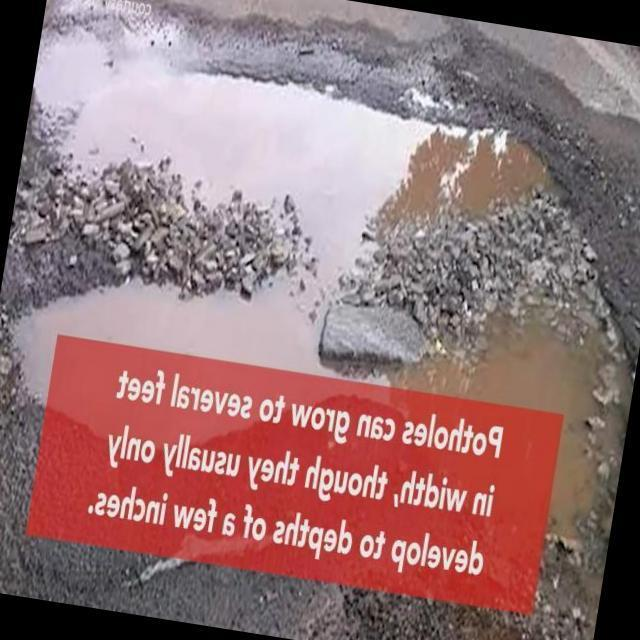Pothole: (9, 31, 629, 540)
